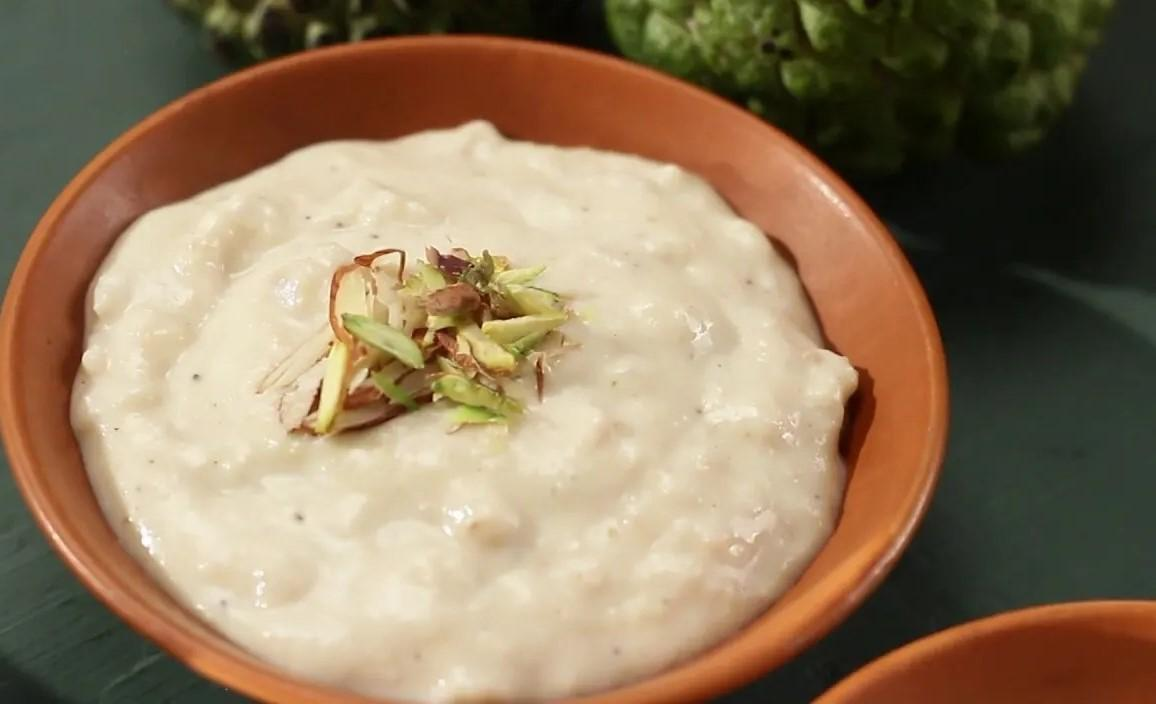Kheer: (71, 118, 860, 703)
